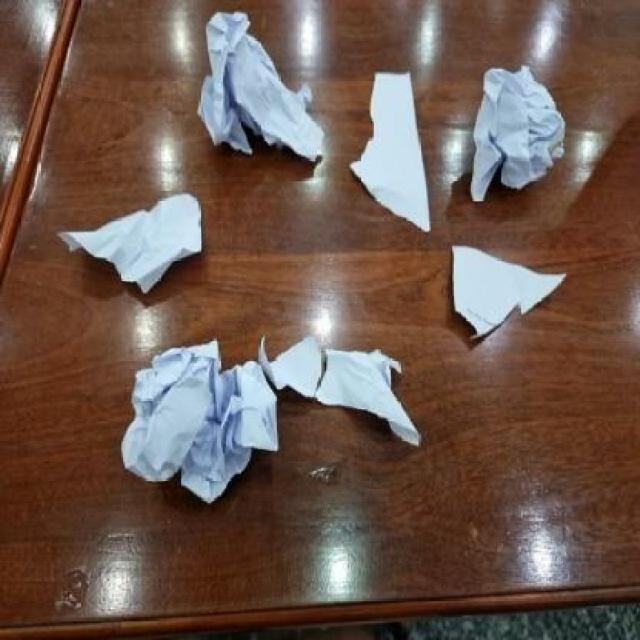trash: (238, 331, 436, 460), (194, 10, 329, 192), (115, 337, 251, 508), (52, 190, 218, 298), (345, 62, 437, 240), (445, 236, 572, 347), (469, 63, 568, 205)
